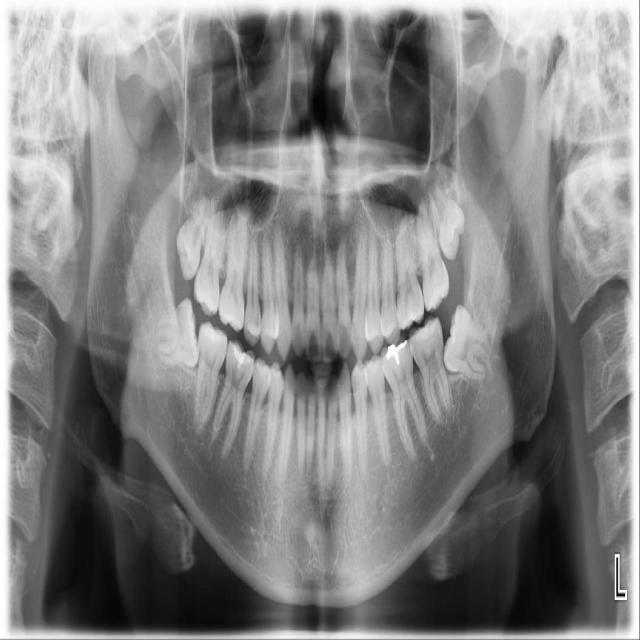Filling: (228, 343, 250, 369), (382, 344, 405, 362)
impacted tooth: (446, 307, 494, 383), (151, 300, 198, 365)
